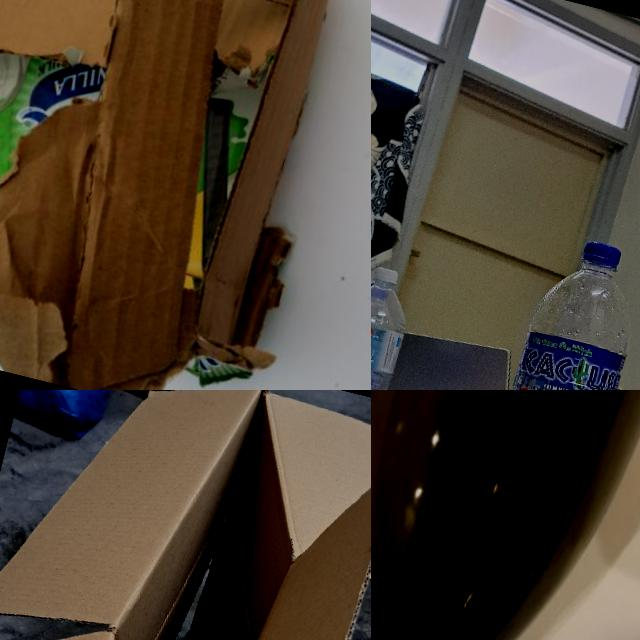garrafa de vidro: (371, 390, 628, 640)
garrafa plástica: (465, 254, 640, 390), (371, 278, 416, 390)
papelão: (0, 0, 368, 390), (0, 390, 371, 640)
sacola plástica: (13, 390, 129, 439)
tampa plástica: (582, 238, 622, 273), (376, 262, 398, 284)
